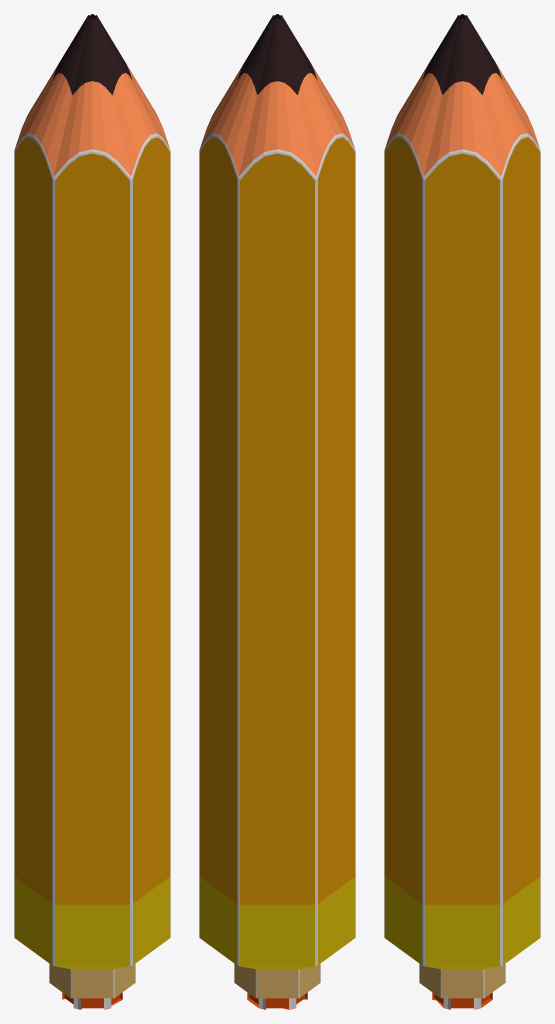
The model's file is lapizmejorado.fbx.
3 renders of one model, left to right at view 1: azimuth 30°, elevation 25°; view 2: azimuth 150°, elevation 25°; view 3: azimuth 270°, elevation 25°, orthographic.
Visible parts, largest first — view 1: Circle; view 2: Circle; view 3: Circle.
Part boxes in pixels (x1,y1,x2,y2): Circle: [14, 14, 170, 1009]; Circle: [199, 14, 355, 1009]; Circle: [384, 14, 540, 1009].
Bounding box in the file's own units: 173 × 1377 × 199.
